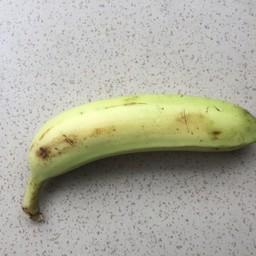Banana Ripe: (2, 86, 256, 212)
